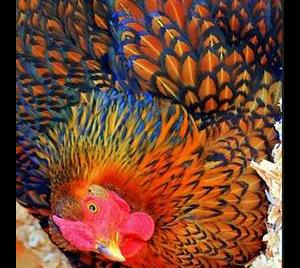hen: (16, 0, 283, 268)
